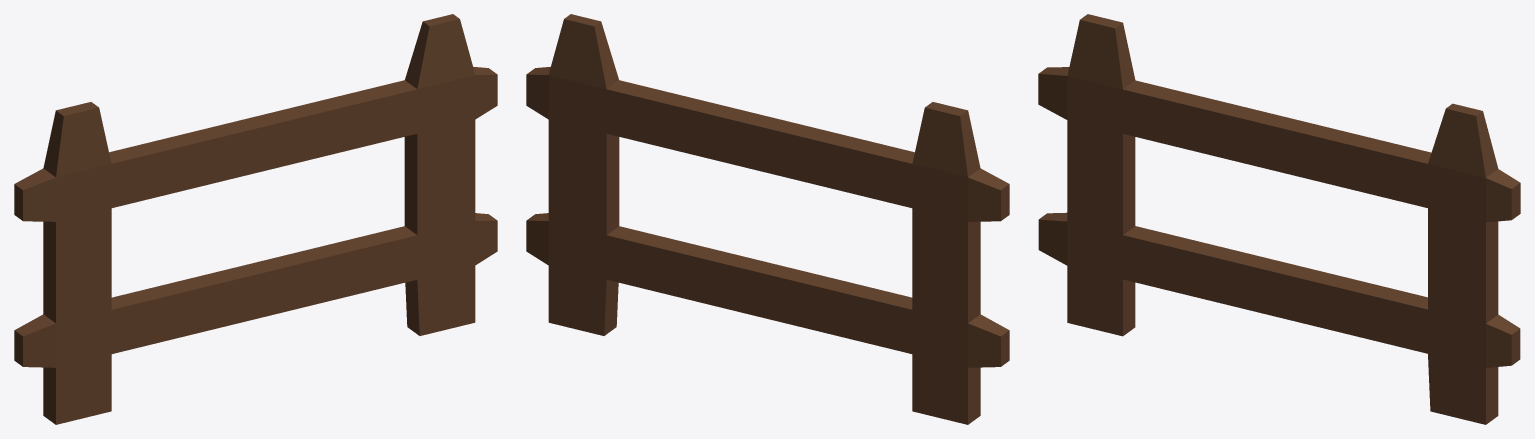
Rendered from citkoyuntitled.fbx.
The picture shows the model from 3 angles, left to right: view 1: azimuth 30°, elevation 25°; view 2: azimuth 150°, elevation 25°; view 3: azimuth 330°, elevation 25°; orthographic projection.
Visible parts, largest first — view 1: Cube.001; view 2: Cube.001; view 3: Cube.001.
Part boxes in pixels (bbox=[...]): Cube.001: bbox=[14, 14, 497, 424]; Cube.001: bbox=[526, 14, 1009, 424]; Cube.001: bbox=[1038, 14, 1520, 424].
Size of the model in its own units: 289 by 177 by 13.21.
